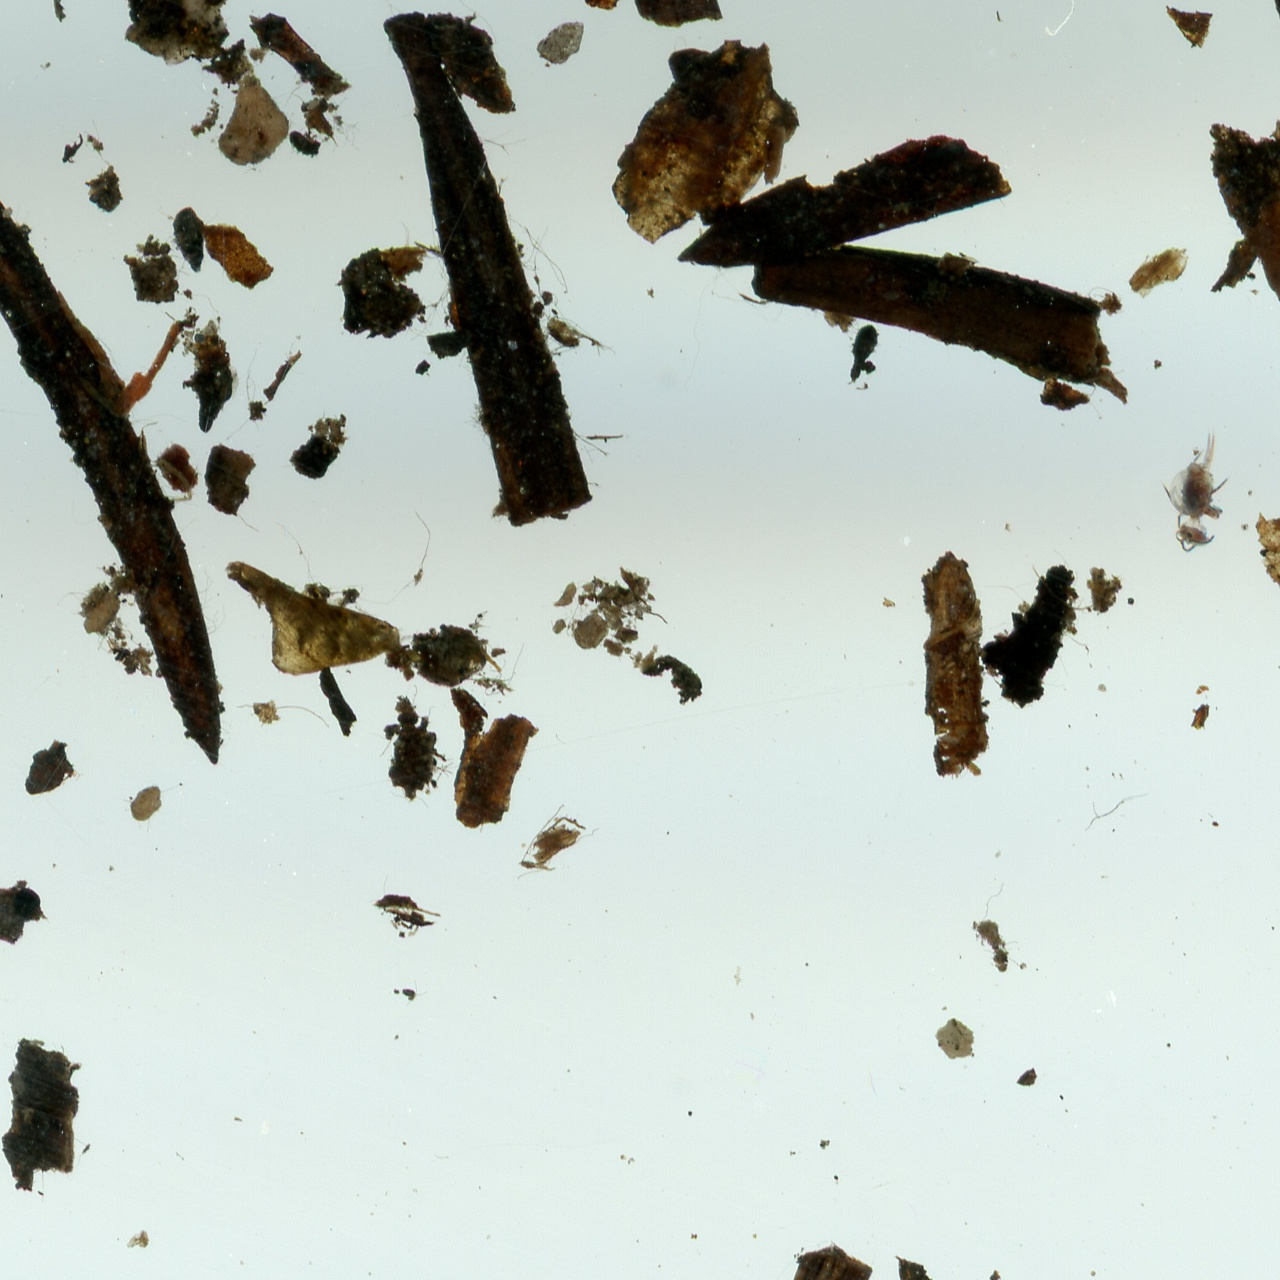arthropod: (1159, 420, 1232, 560), (181, 317, 238, 433), (575, 0, 626, 15)
